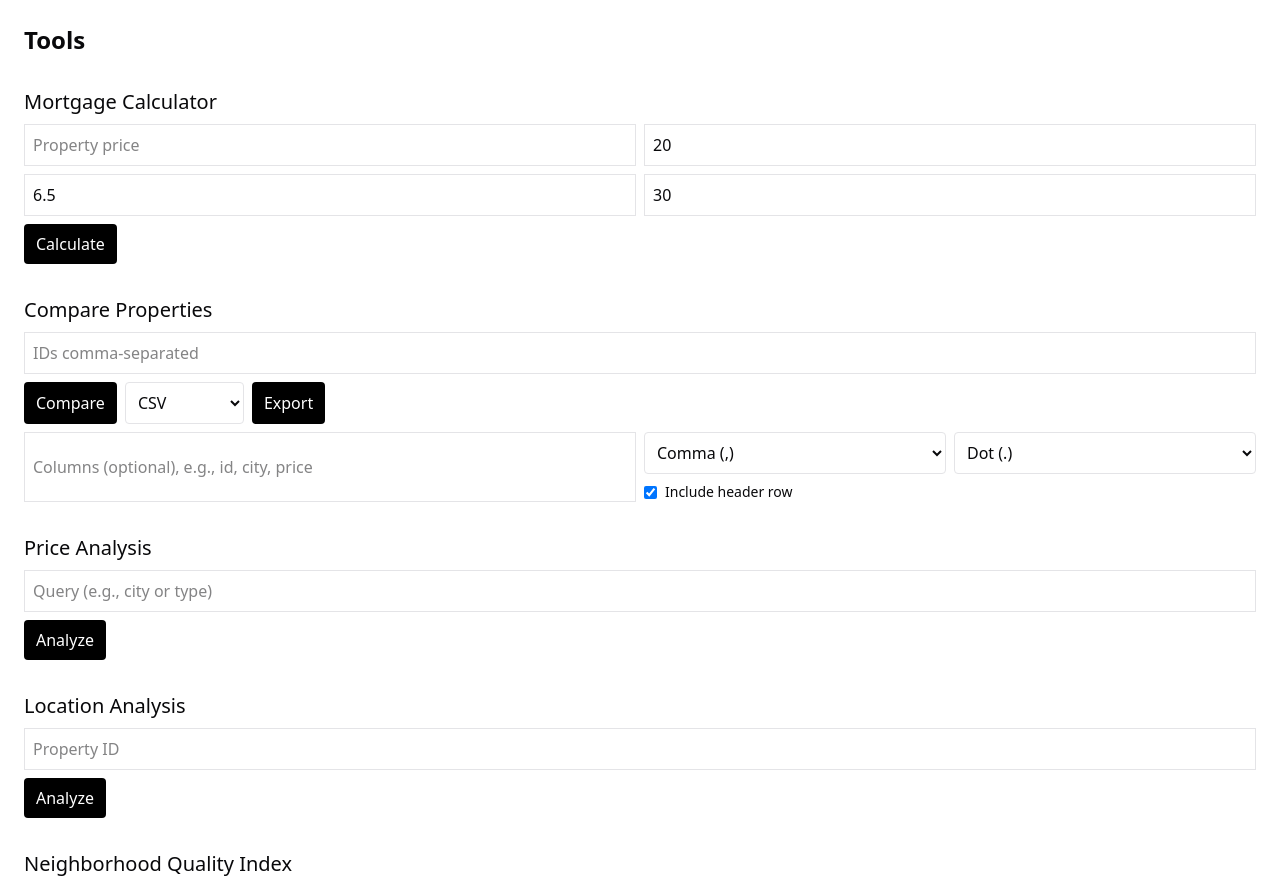
ToolsPage › runs location analysis
Type "p1" into the field with placeholder "Property ID" below "Location Analysis" at coordinates (640, 749), box left=24, top=728, right=1256, bottom=770
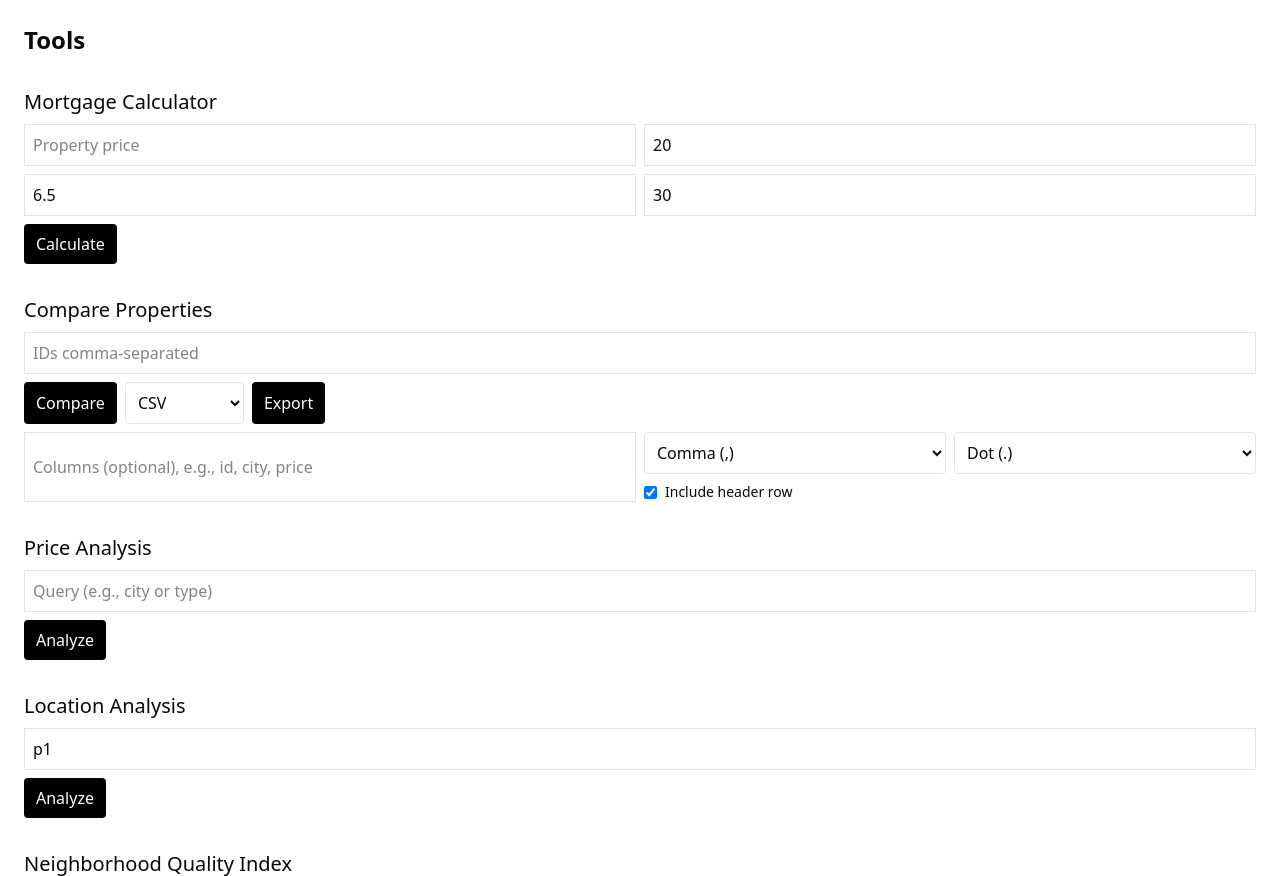
Click the button "Analyze" below "Location Analysis" at coordinates (65, 798), box left=24, top=778, right=106, bottom=818
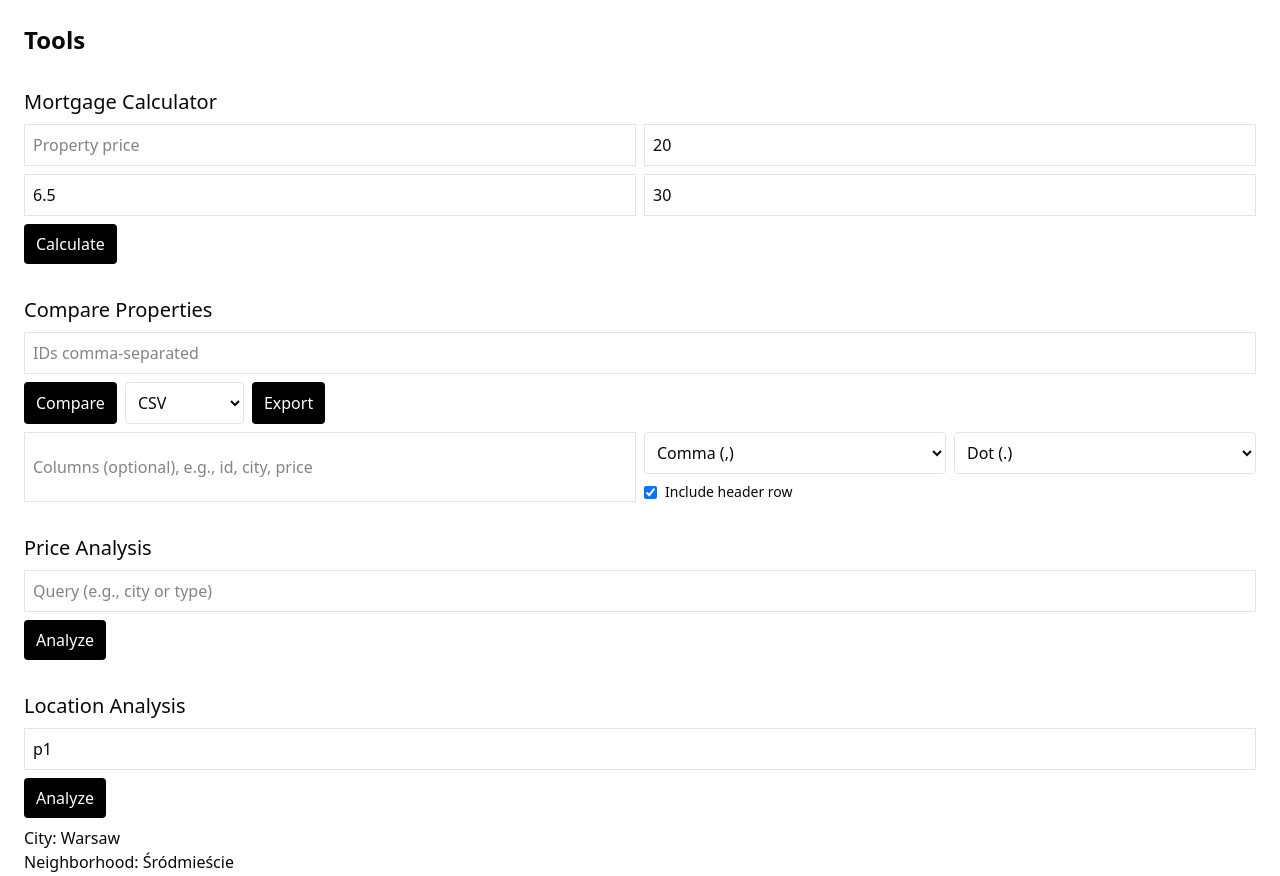
expect the text "City: Warsaw" is shown: met, box left=24, top=827, right=120, bottom=849
